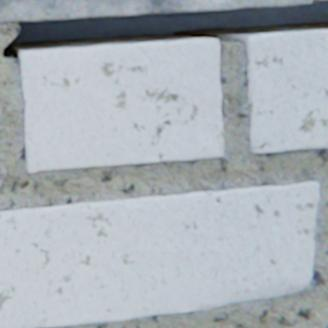brick: (0, 181, 317, 327), (20, 39, 222, 172), (244, 30, 327, 152), (0, 0, 309, 22)
crack: (2, 0, 327, 59)
